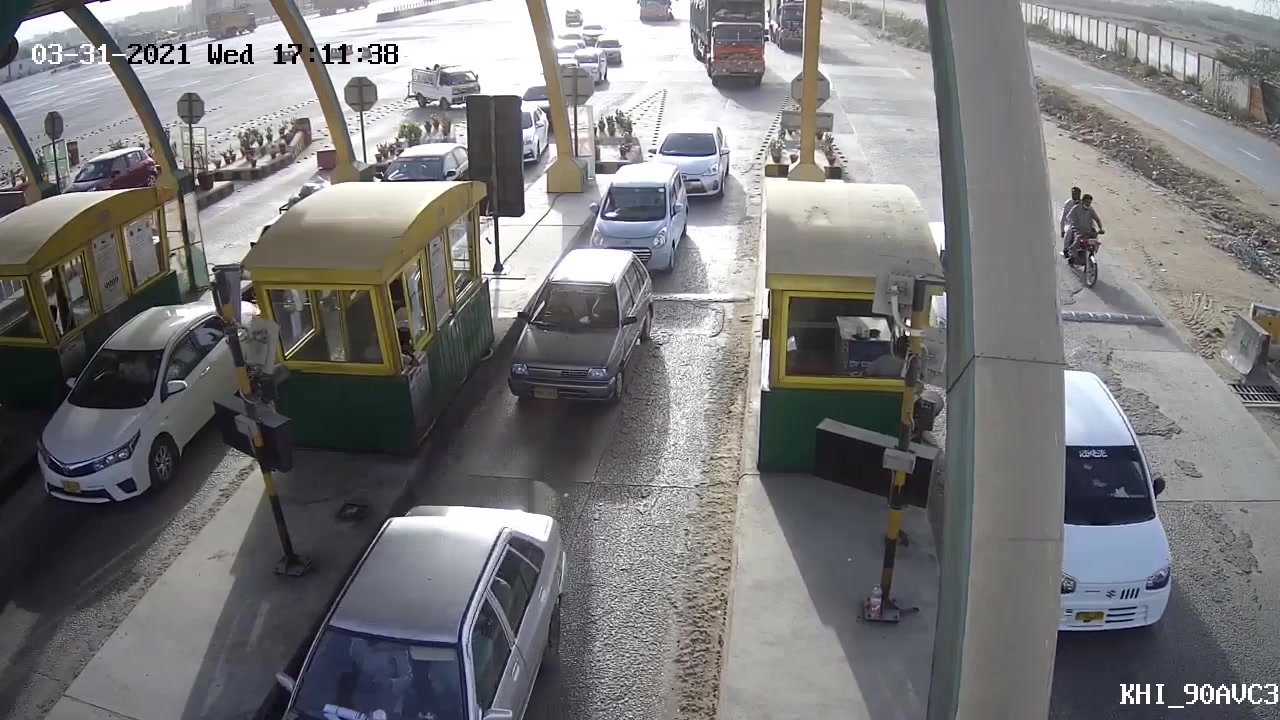F1: (489, 253, 663, 411), (594, 162, 690, 273)
